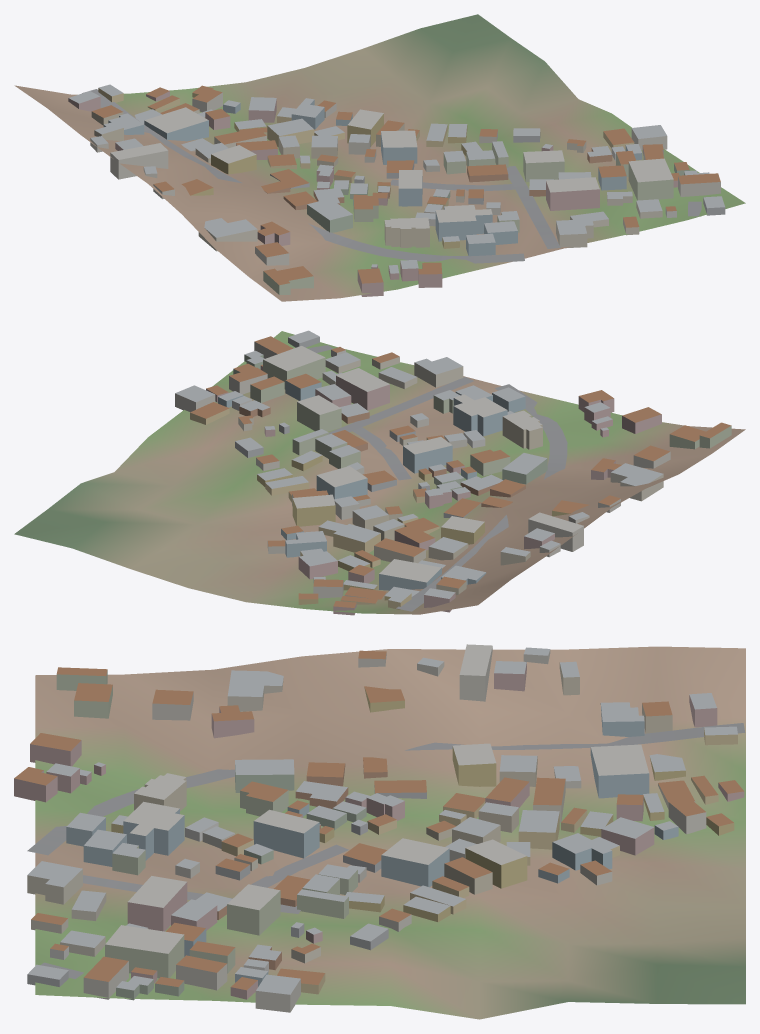
3 renders of one model, top to bottom at view 1: azimuth 30°, elevation 25°; view 2: azimuth 150°, elevation 25°; view 3: azimuth 270°, elevation 25°, orthographic. The views are drawn at different scales.
Parts seen in each view (by area): view 1: Lo; view 2: Lo; view 3: Lo.
Boxes of the visible parts, x1,y1,x2,y2 form: Lo: [14, 14, 745, 301]; Lo: [14, 330, 745, 615]; Lo: [14, 644, 745, 1019].
Size of the model in its own units: 262 by 29.55 by 264.
